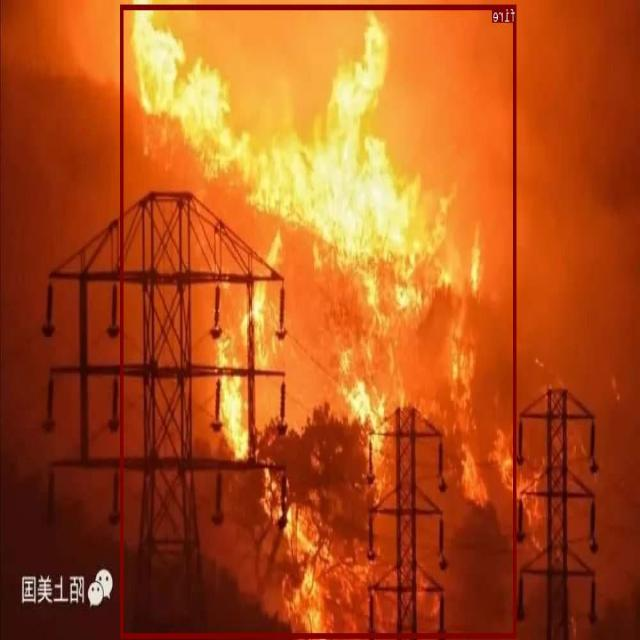fire: (121, 4, 516, 636)
